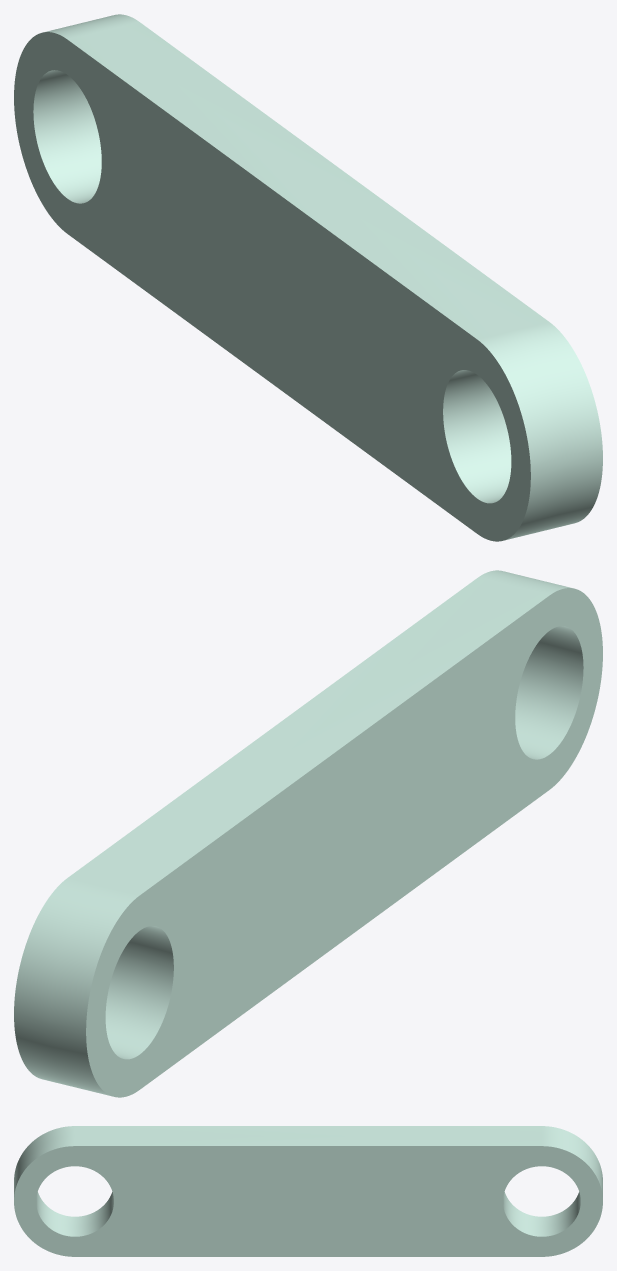
The picture shows the model from 3 angles, top to bottom: view 1: azimuth 30°, elevation 25°; view 2: azimuth 150°, elevation 25°; view 3: azimuth 270°, elevation 25°; orthographic projection. The views are drawn at different scales.
Parts seen in each view (by area): view 1: Renderer Node; view 2: Renderer Node; view 3: Renderer Node.
Boxes of the visible parts, <box> form: Renderer Node: <box>14,14,602,541</box>; Renderer Node: <box>14,570,602,1097</box>; Renderer Node: <box>14,1126,602,1256</box>.
Bounding box in the file's own units: 0.125 × 0.322 × 1.55.
